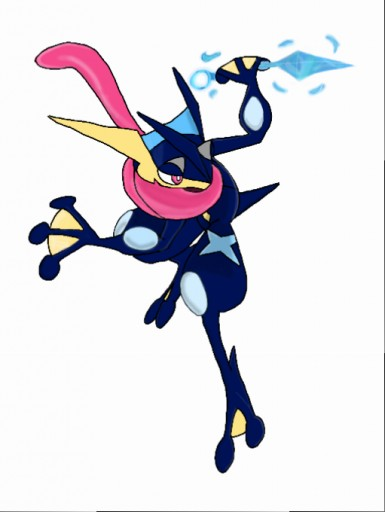greninja: (20, 35, 308, 480)
